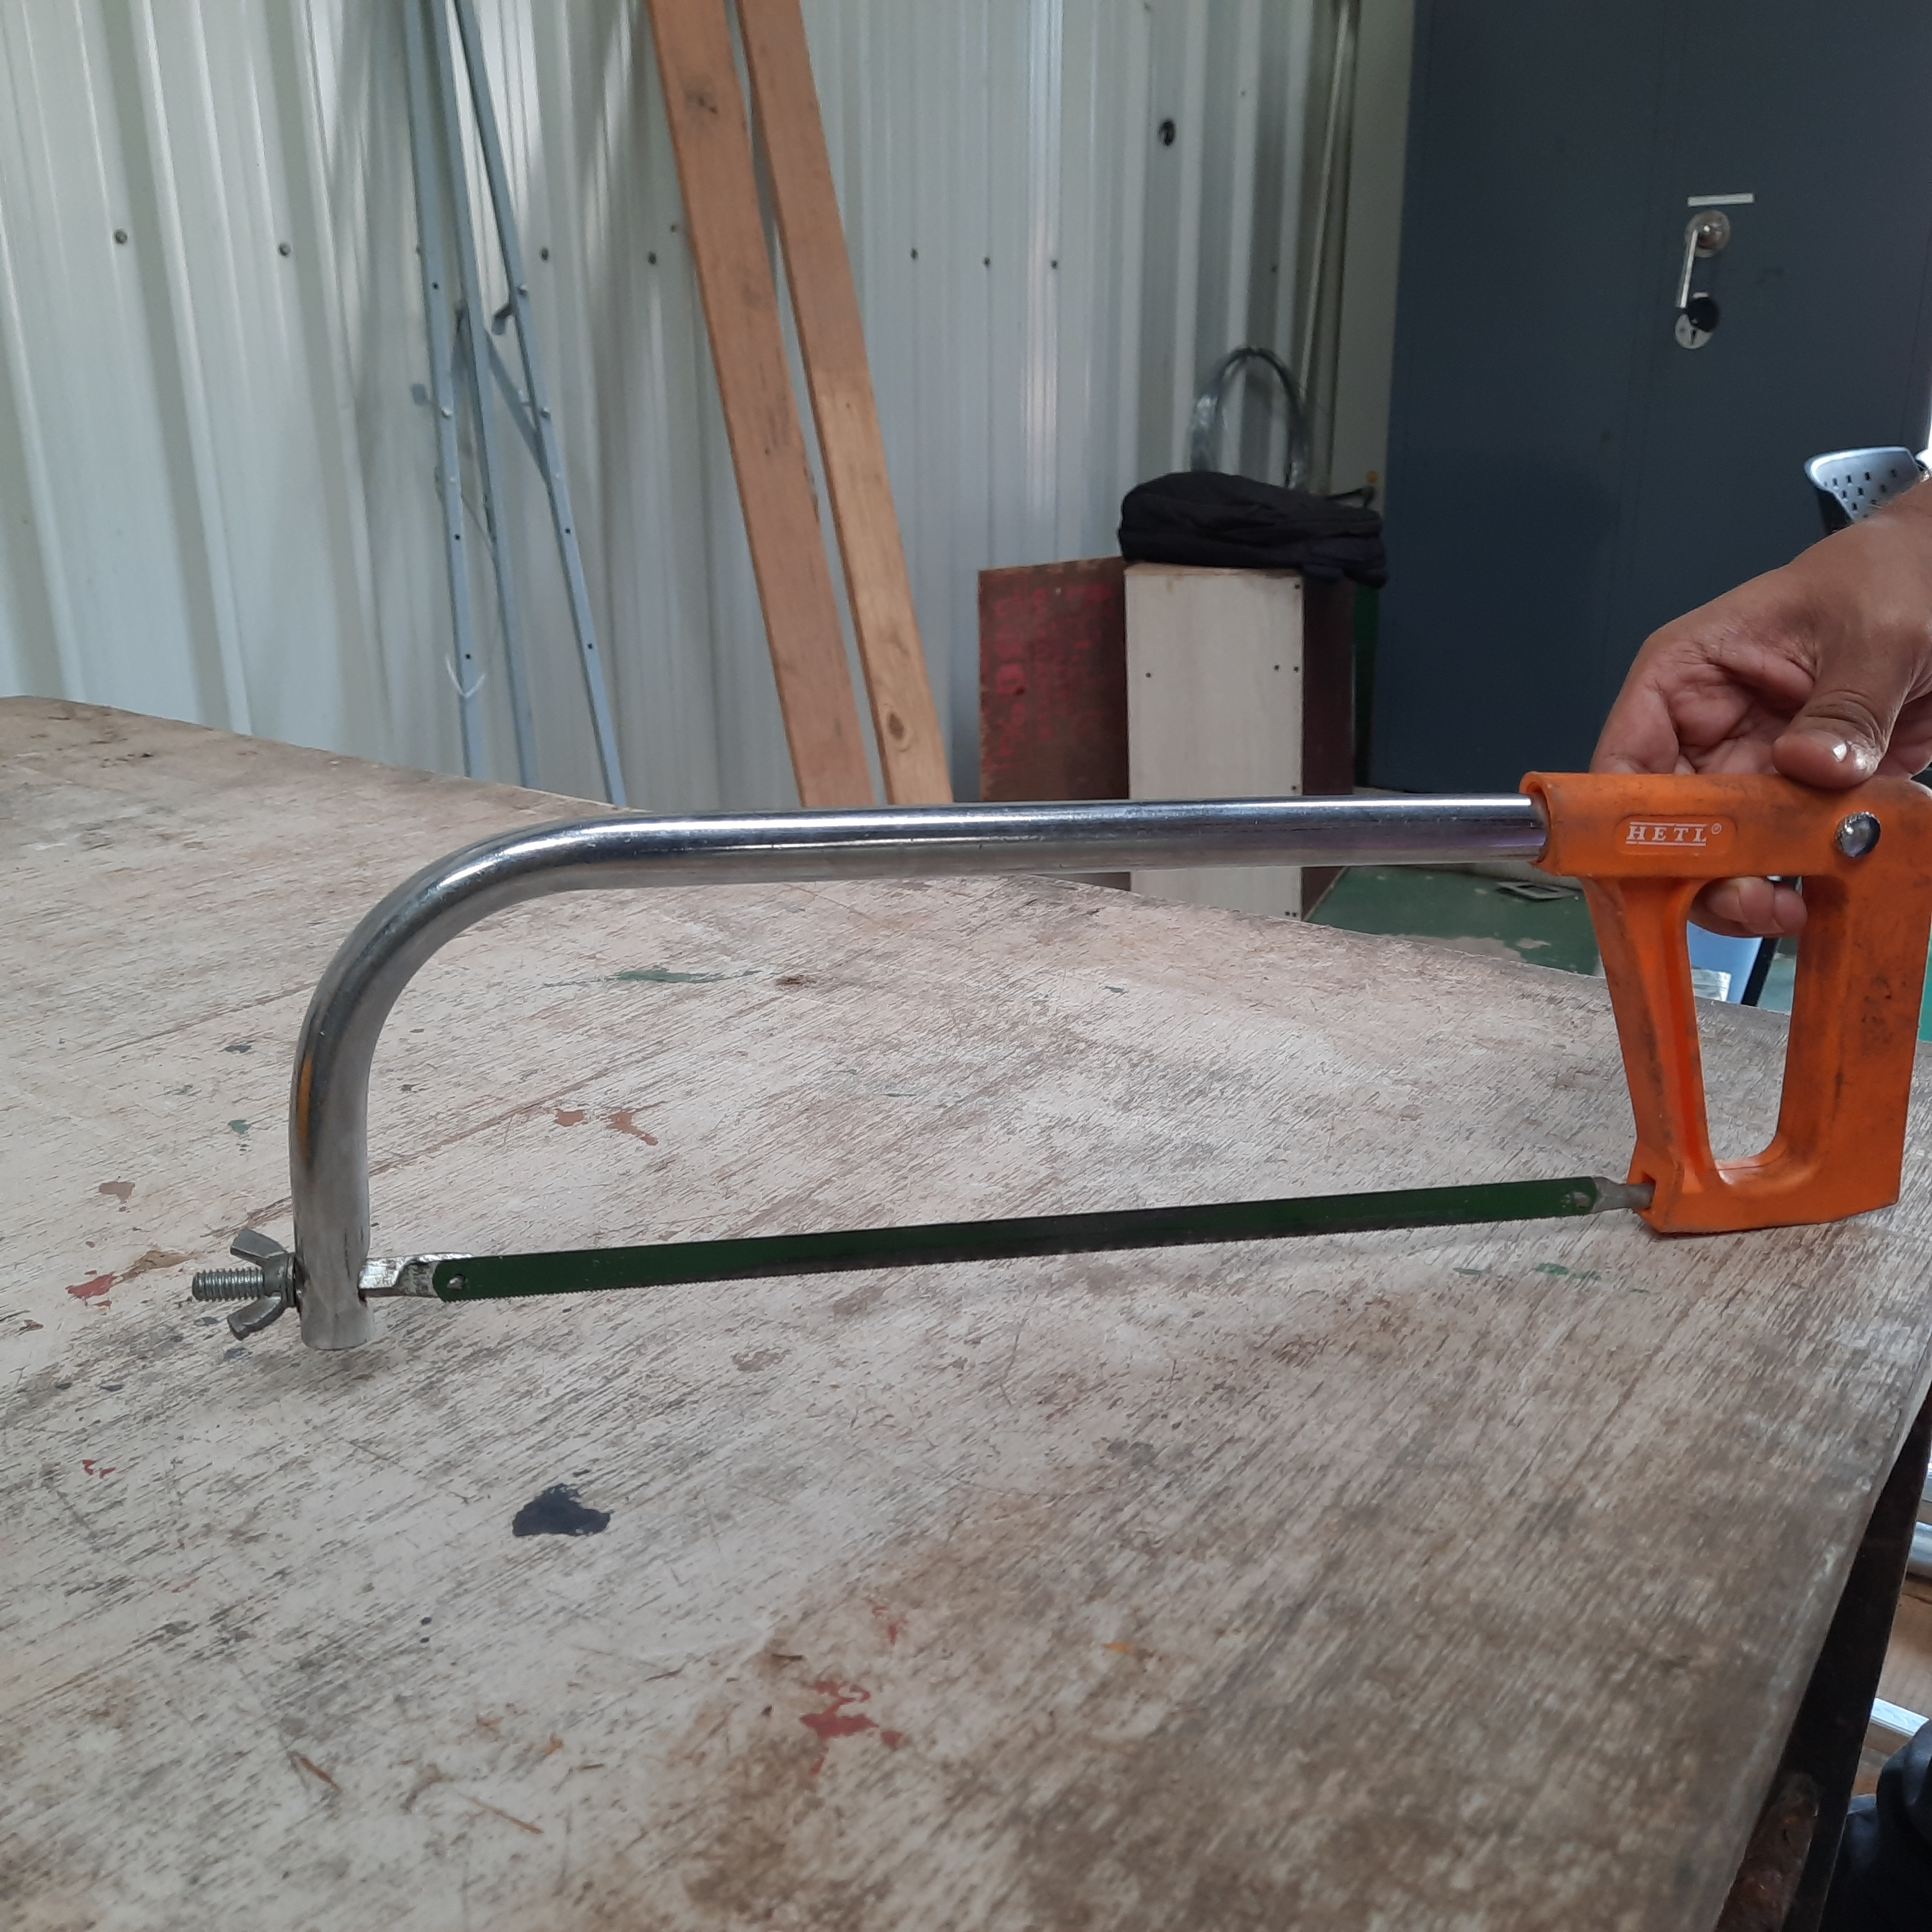Hexaframe: (80, 695, 1932, 1330)
